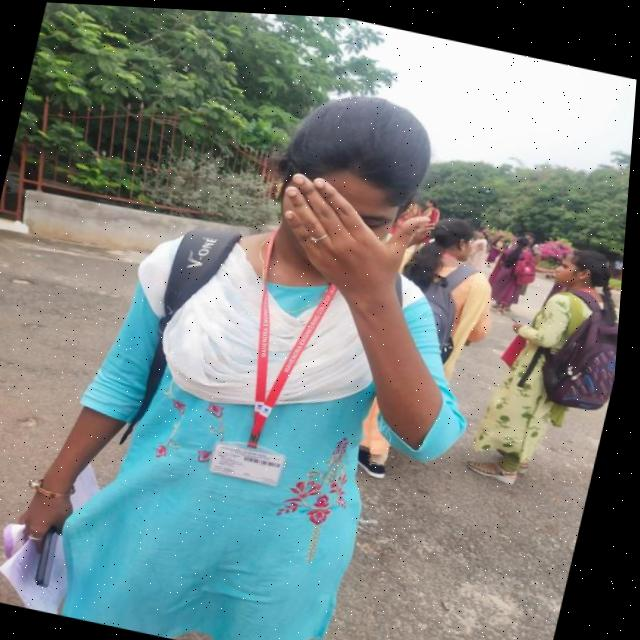id_card: (206, 220, 348, 489)
